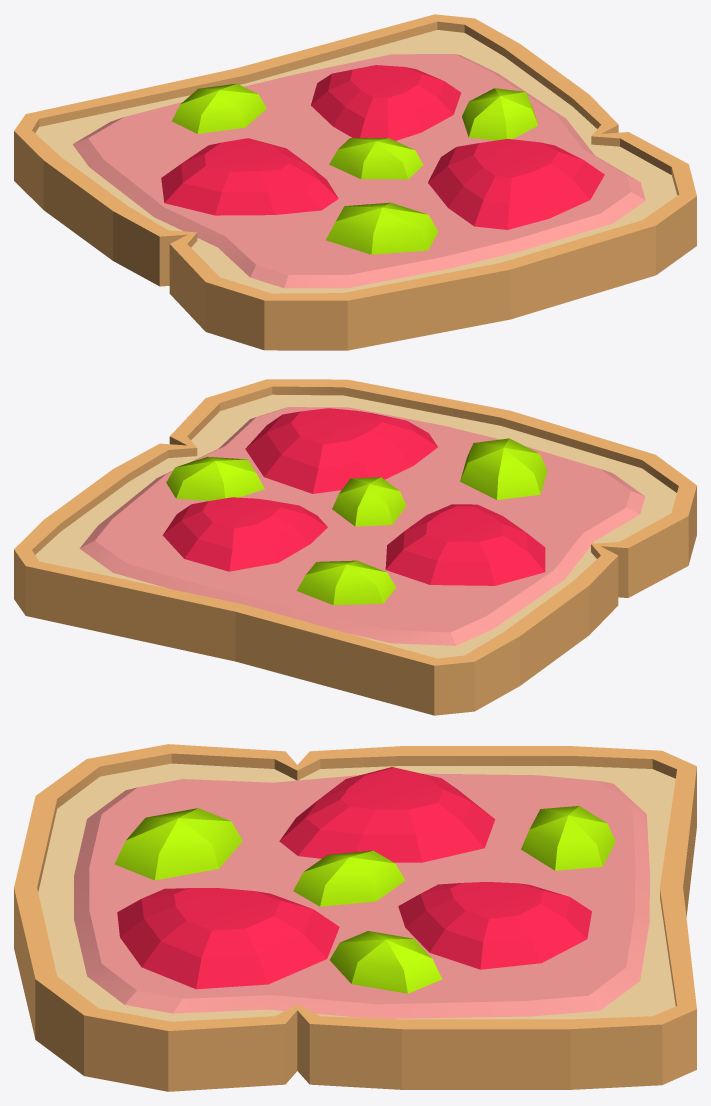
Rendered from PW_frenchtoast_strawberry.fbx.
3 renders of one model, top to bottom at view 1: azimuth 30°, elevation 25°; view 2: azimuth 150°, elevation 25°; view 3: azimuth 270°, elevation 25°, orthographic. The views are drawn at different scales.
Parts seen in each view (by area): view 1: bread, sauce, strawberries, pistachio; view 2: bread, sauce, strawberries, pistachio; view 3: bread, sauce, strawberries, pistachio.
Boxes of the visible parts, x1,y1,x2,y2 form: bread: [14, 14, 696, 350]; sauce: [72, 54, 645, 288]; strawberries: [161, 65, 604, 229]; pistachio: [172, 83, 538, 254]; bread: [14, 379, 696, 715]; sauce: [79, 407, 645, 645]; strawberries: [162, 408, 545, 585]; pistachio: [166, 438, 547, 605]; bread: [14, 744, 696, 1091]; sauce: [74, 773, 649, 1018]; strawberries: [117, 767, 591, 989]; pistachio: [114, 806, 615, 993].
Size of the model in its own units: 34.12 by 5.33 by 34.32.
Materials: 1 (1 with a texture image).
